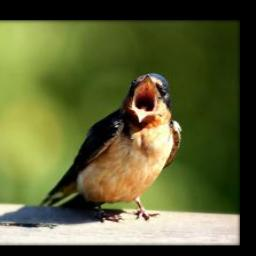Swallow: (38, 71, 183, 223)
